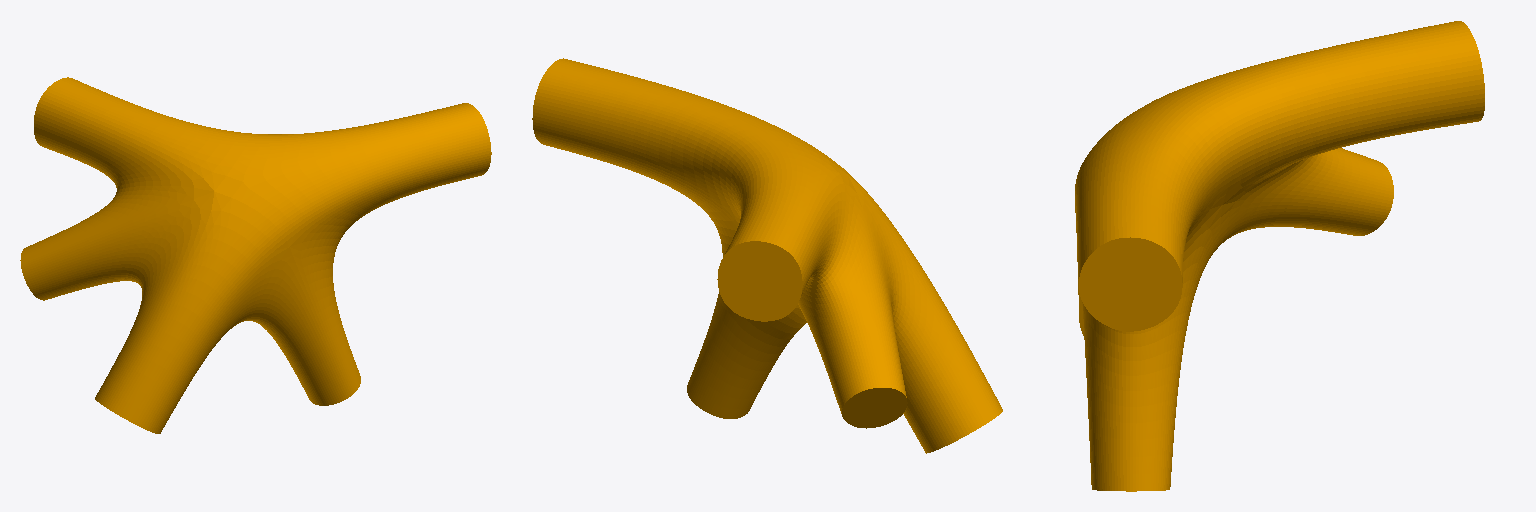
The robot description file, URDF, robot "object":
<robot name="object">
  <link name="object">
    <visual>
      <origin xyz="0 0 0"/>
      <geometry>
        <mesh filename="visual.obj" scale="1 1 1"/>
      </geometry>
    </visual>
    <collision>
      <origin xyz="0 0 0"/>
      <geometry>
        <mesh filename="collision.obj" scale="1 1 1"/>
      </geometry>
    </collision>
    <inertial>
      <mass value="0.05"/>
      <inertia ixx="3.510157358375375e-05" iyy="5.405343459834397e-05" izz="5.307120476900006e-05" ixy="1.1080826055806117e-05" ixz="-8.175104478894487e-06" iyz="-5.828408845777789e-06"/>
    </inertial>
  </link>
</robot>

--- What the picture shows (computed from the rendered views, not written in the file) ---
3 views of the same robot in one strip: view 1: azimuth 30°, elevation 25°; view 2: azimuth 150°, elevation 25°; view 3: azimuth 270°, elevation 25° (orthographic).
Model object with 1 links and 0 joints (none), rooted at object, posed all joints at 0.
Links seen in each view (by area): view 1: object; view 2: object; view 3: object.
Boxes of the visible links, box(x1,y1,x2,y2) form: object: box(20, 77, 491, 433); object: box(532, 58, 1002, 453); object: box(1075, 21, 1484, 491).
Size in the robot's own frame: 0.1241 by 0.085 by 0.0849 metres.
1 mesh visuals loaded from 1 distinct referenced files (1 OBJ).
